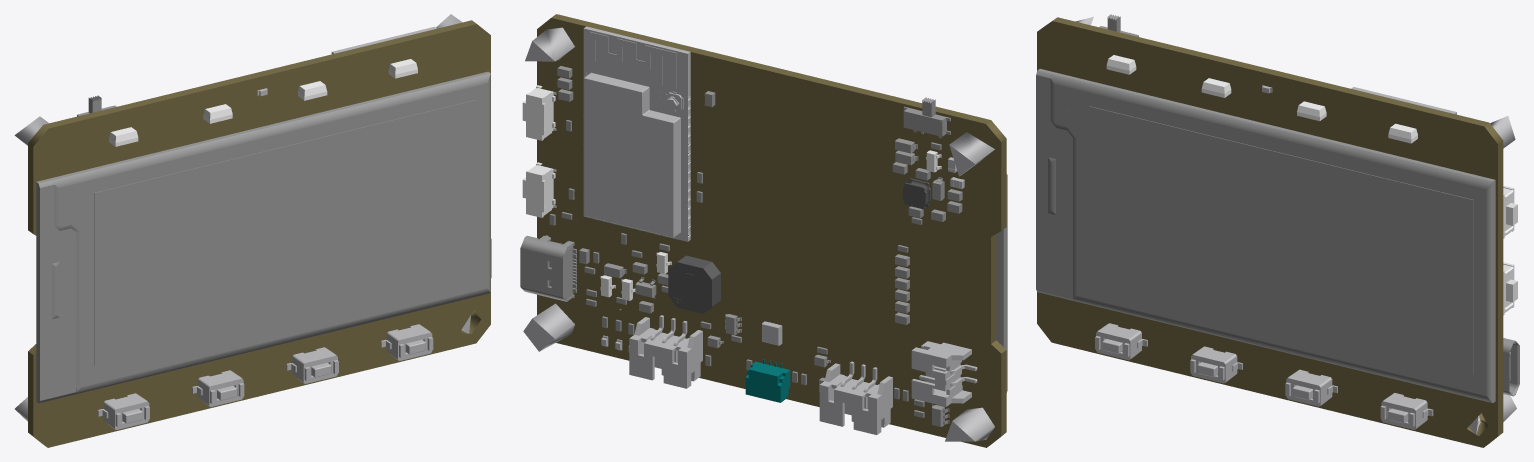
File: ada-4800.glb
3 views of the same model, side by side, from view 1: azimuth 30°, elevation 25°; view 2: azimuth 150°, elevation 25°; view 3: azimuth 330°, elevation 25° (orthographic).
Parts seen in each view (by area): view 1: 0.3333333333333333_0.3333333333333333_0.3333333333333333_0, 0.16666666666666666_0.16666666666666666_0.08333333333333333_, 0.5833333333333334_0.5833333333333334_0.5833333333333334_0.8, 1_1_1_0.85; view 2: 0.16666666666666666_0.16666666666666666_0.08333333333333333_, 0.5833333333333334_0.5833333333333334_0.5833333333333334_0.8, 0.3333333333333333_0.3333333333333333_0.3333333333333333_0, 0.9166666666666666_0.9166666666666666_0.9166666666666666_0.8, 0.08333333333333333_0.08333333333333333_0.08333333333333333_, 0_0.25_0.25_0; view 3: 0.3333333333333333_0.3333333333333333_0.3333333333333333_0, 0.16666666666666666_0.16666666666666666_0.08333333333333333_, 0.5833333333333334_0.5833333333333334_0.5833333333333334_0.8, 1_1_1_0.85, 0.9166666666666666_0.9166666666666666_0.9166666666666666_0.8.
Boxes of the visible parts, x1,y1,x2,y2 form: 0.3333333333333333_0.3333333333333333_0.3333333333333333_0: (36,71,491,403); 0.16666666666666666_0.16666666666666666_0.08333333333333333_: (28,20,490,447); 0.5833333333333334_0.5833333333333334_0.5833333333333334_0.8: (14,14,470,429); 1_1_1_0.85: (109,59,417,146); 0.16666666666666666_0.16666666666666666_0.08333333333333333_: (537,14,1006,447); 0.5833333333333334_0.5833333333333334_0.5833333333333334_0.8: (523,26,994,441); 0.3333333333333333_0.3333333333333333_0.3333333333333333_0: (520,66,1007,426); 0.9166666666666666_0.9166666666666666_0.9166666666666666_0.8: (522,85,941,300); 0.08333333333333333_0.08333333333333333_0.08333333333333333_: (668,178,930,313); 0_0.25_0.25_0: (745,359,790,402); 0.3333333333333333_0.3333333333333333_0.3333333333333333_0: (1036,14,1519,402); 0.16666666666666666_0.16666666666666666_0.08333333333333333_: (1037,17,1503,447); 0.5833333333333334_0.5833333333333334_0.5833333333333334_0.8: (1075,16,1516,434); 1_1_1_0.85: (1106,55,1417,143); 0.9166666666666666_0.9166666666666666_0.9166666666666666_0.8: (1503,185,1517,315).
Bounding box in the file's own units: 8.11 × 5.54 × 1.19.
